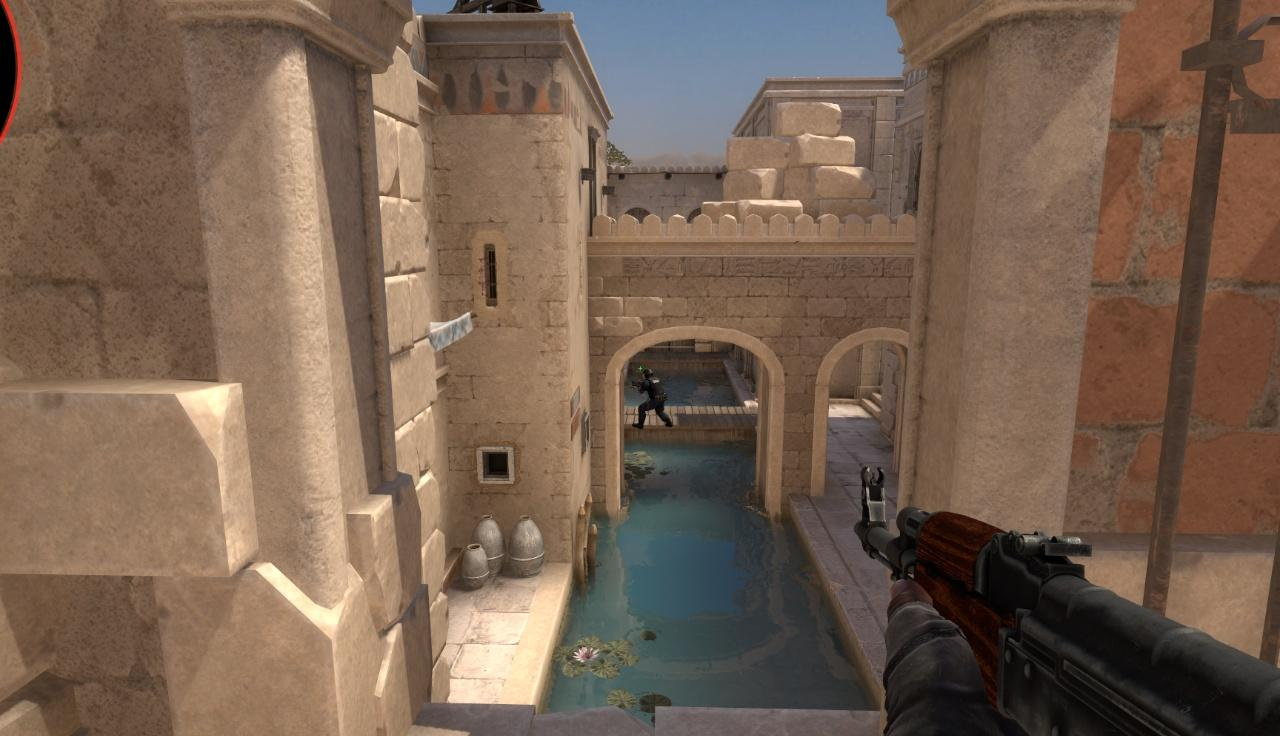ct: (640, 369, 667, 427)
cthead: (643, 369, 653, 379)
rifle: (848, 464, 1280, 736)
